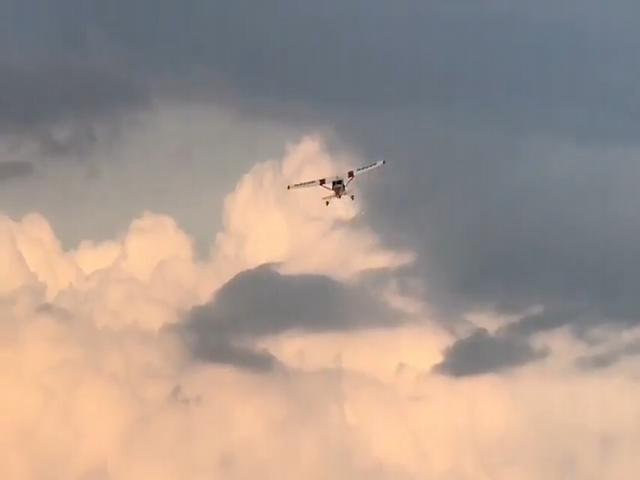plane: (287, 160, 385, 202)
